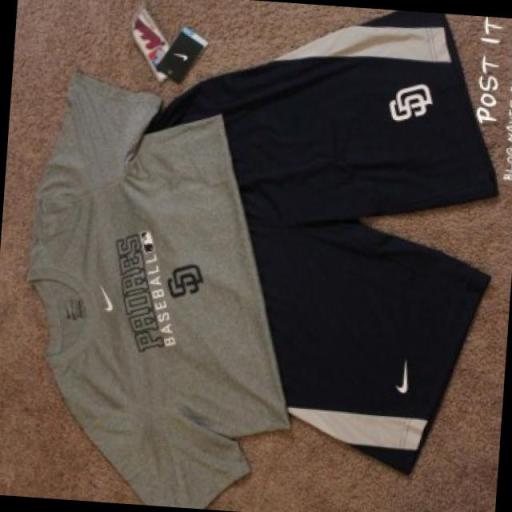Nike: (393, 354, 414, 400)
